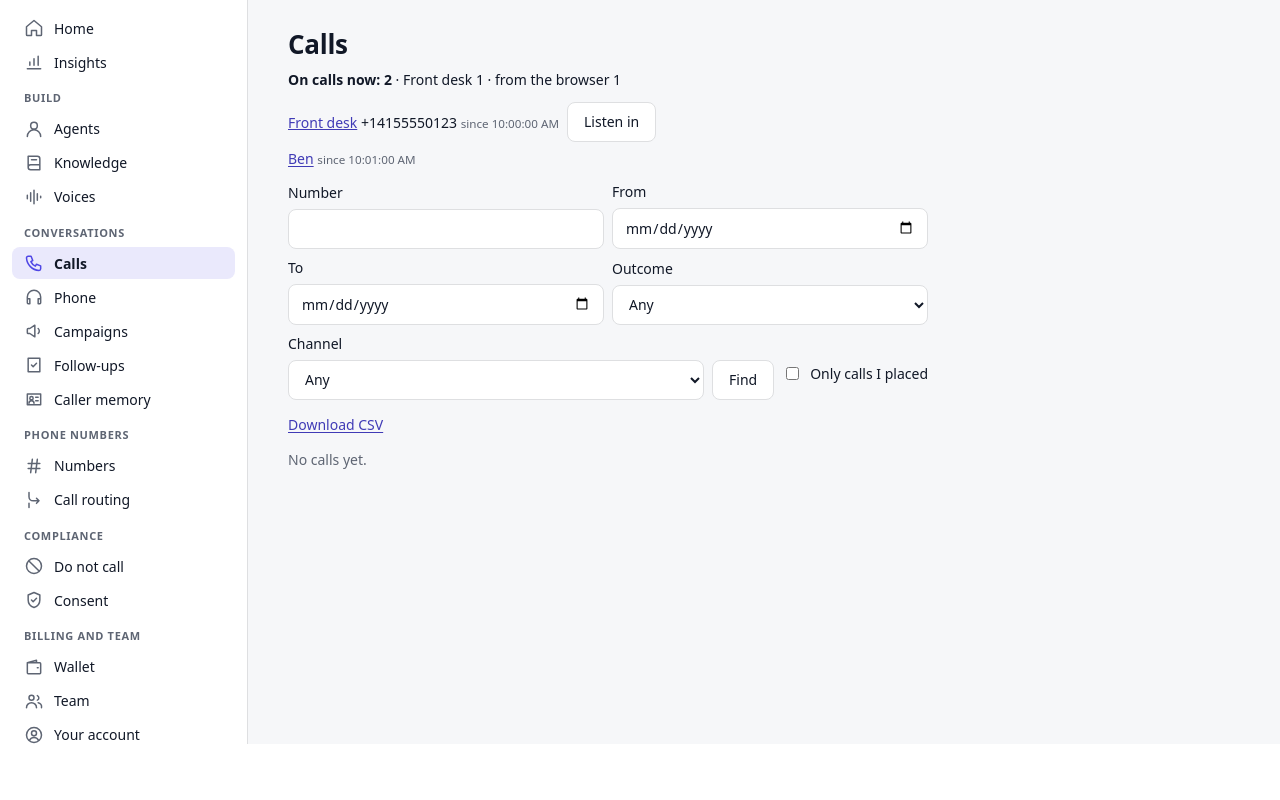
Test: listening in › offers it only where the member may, opens the address answered and plays what comes
expect the list item "Front desk +14155550123 since 10:00:00 AM Listen in" is shown: met, box [288,102,656,142]
expect the list item "Ben since 10:01:00 AM" is shown: met, box [288,148,416,168]
Click the button "Listen in". click: (612, 122)
box: [567,102,656,142]
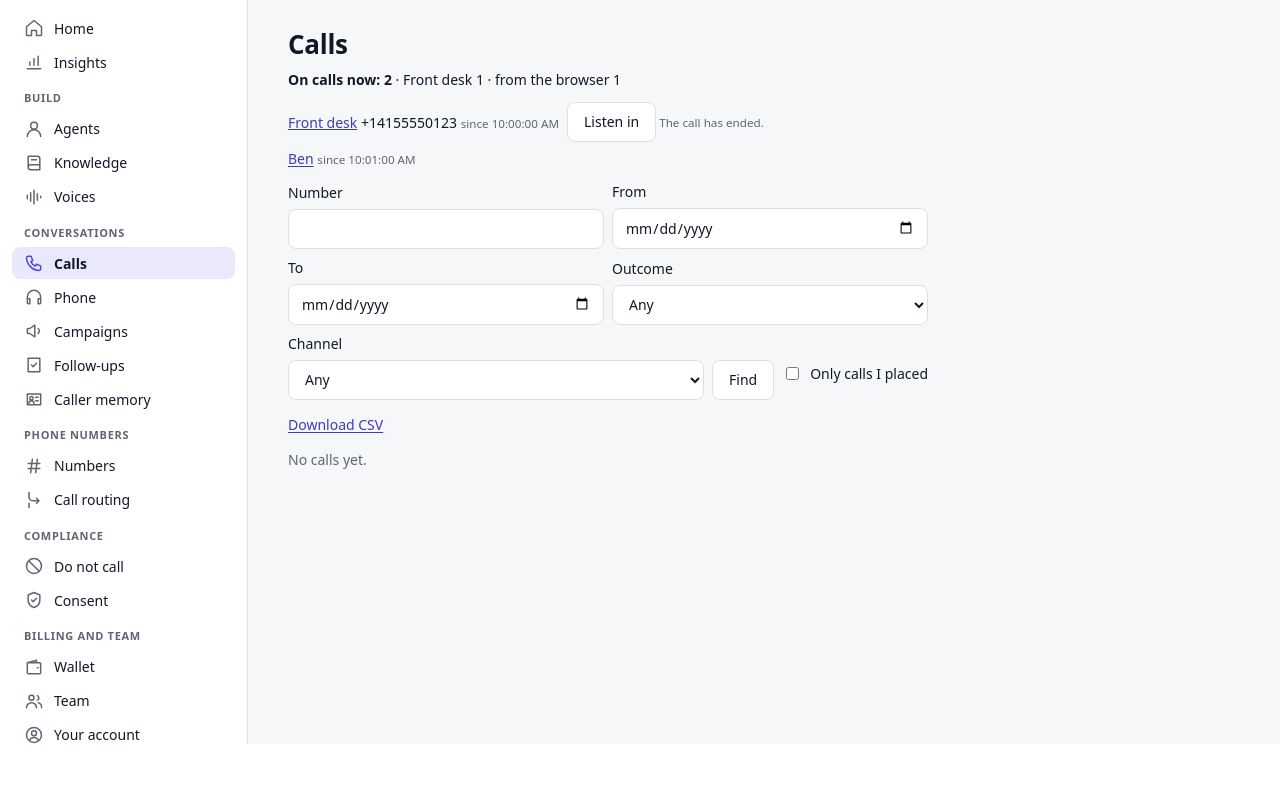
expect the text "The call has ended." is shown: met, box [656,115,764,130]
